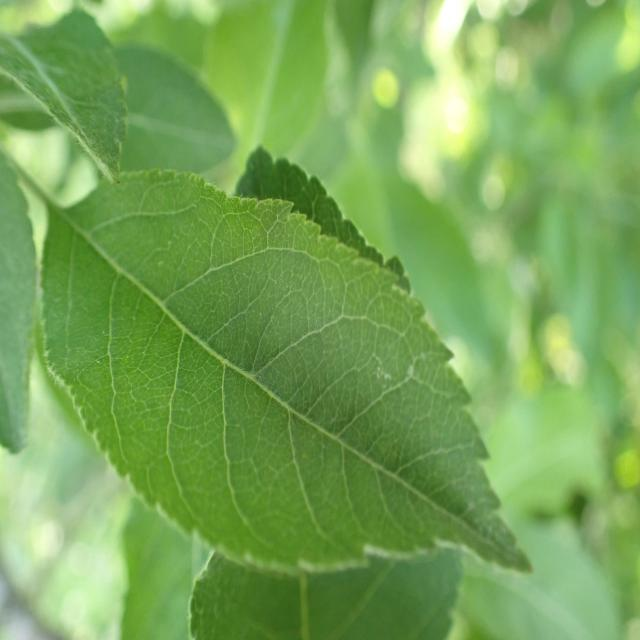healthy: (38, 166, 534, 576), (190, 544, 464, 640), (0, 6, 129, 184), (0, 147, 40, 455)
